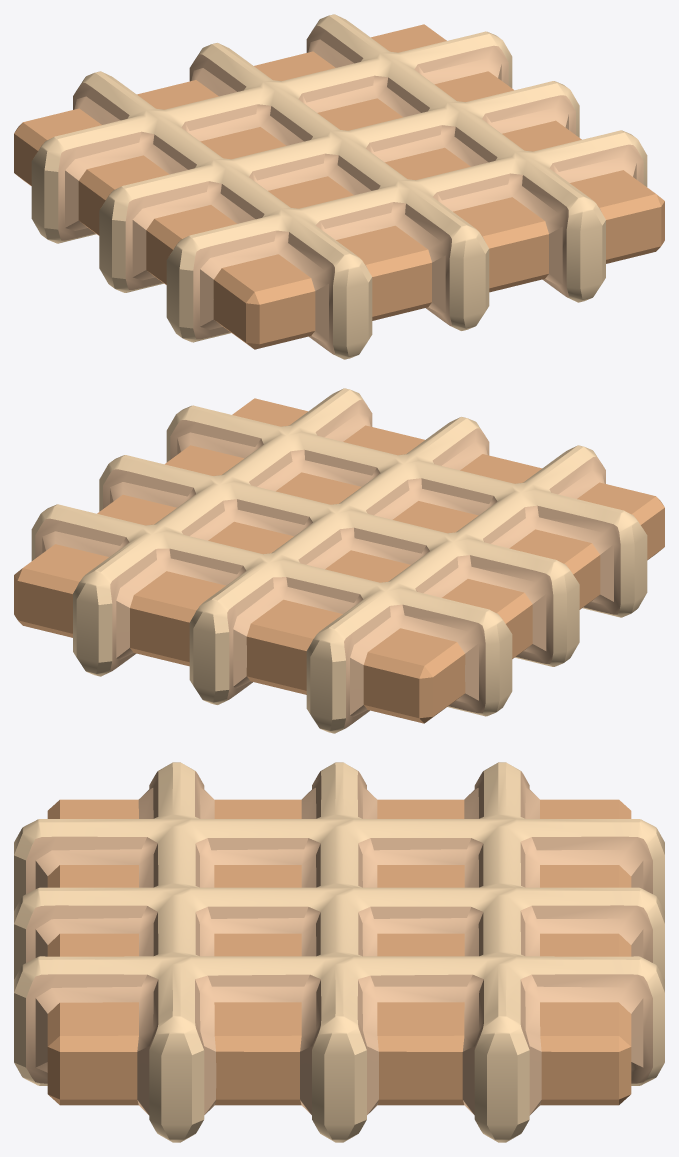
File: SM_waffle.fbx
3 renders of one model, top to bottom at view 1: azimuth 30°, elevation 25°; view 2: azimuth 150°, elevation 25°; view 3: azimuth 270°, elevation 25°, orthographic. The views are drawn at different scales.
Parts seen in each view (by area): view 1: SM_waffle; view 2: SM_waffle; view 3: SM_waffle.
Part boxes in pixels (x1=…): SM_waffle: x1=14, y1=14, x2=664, y2=359; SM_waffle: x1=14, y1=388, x2=664, y2=733; SM_waffle: x1=14, y1=762, x2=664, y2=1142.
Bounding box in the file's own units: 617 × 132 × 617.
1 material, 1 textured.
